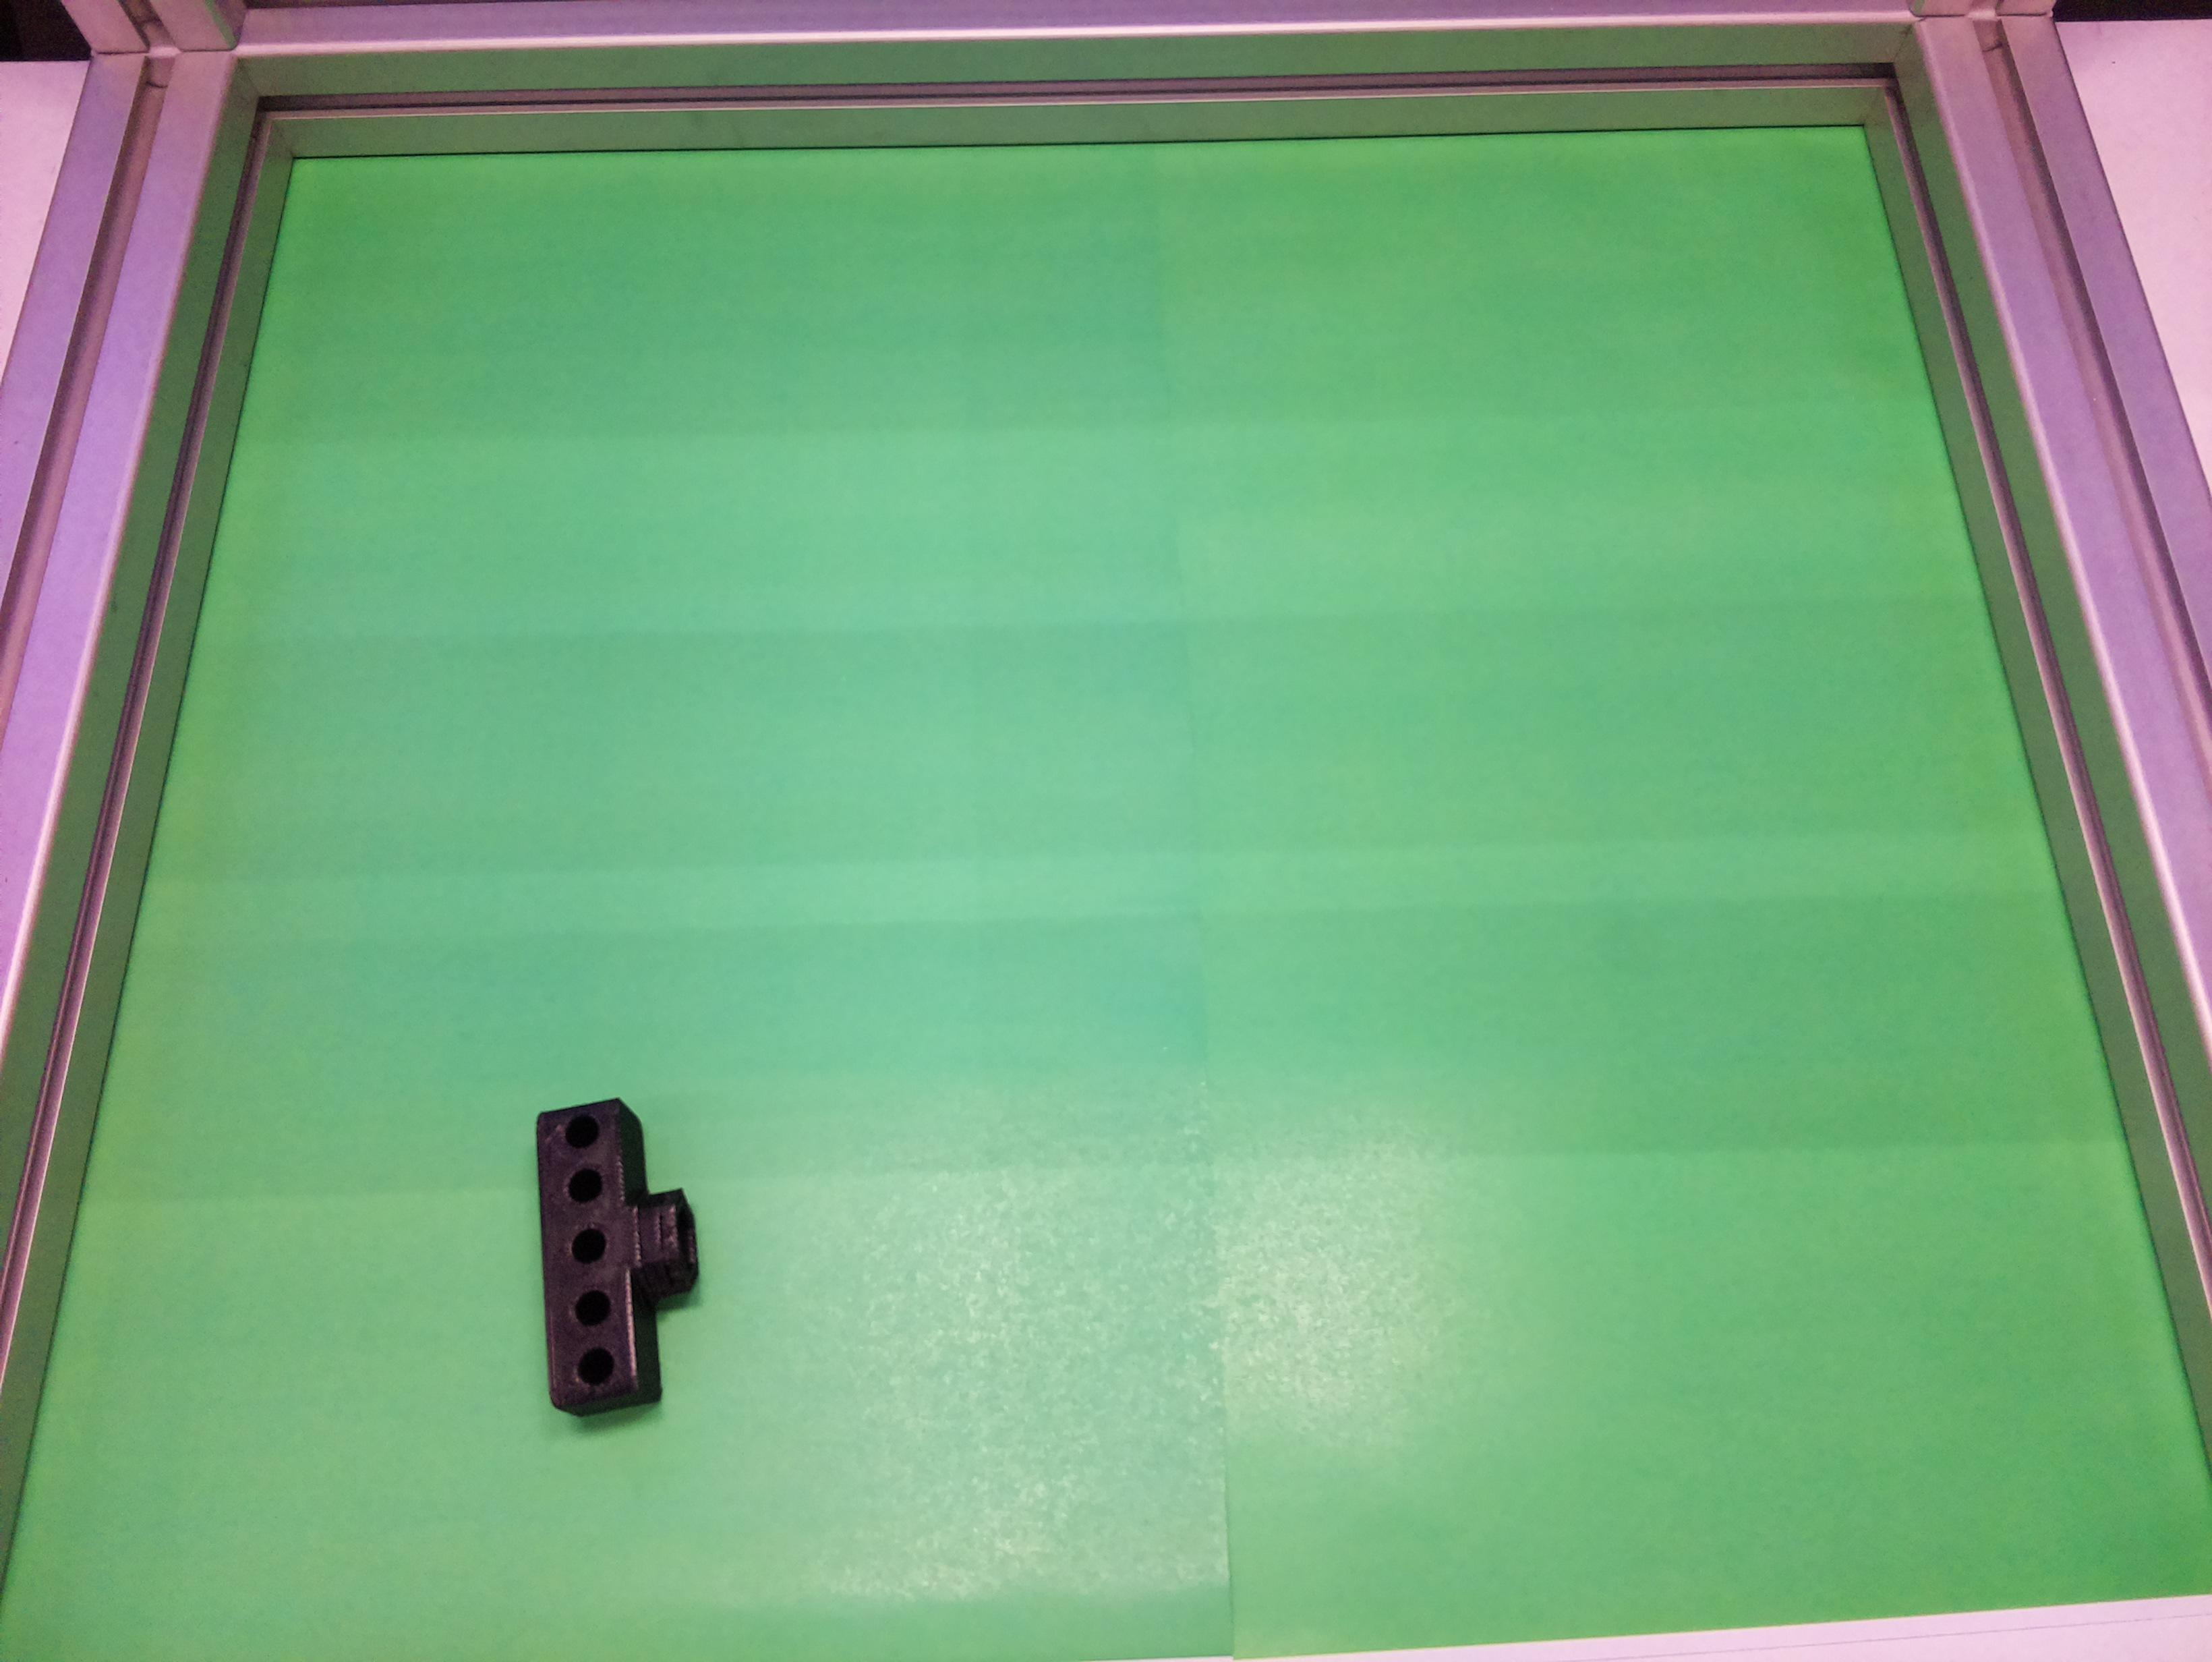bit_holder: (531, 1095, 707, 1418)
